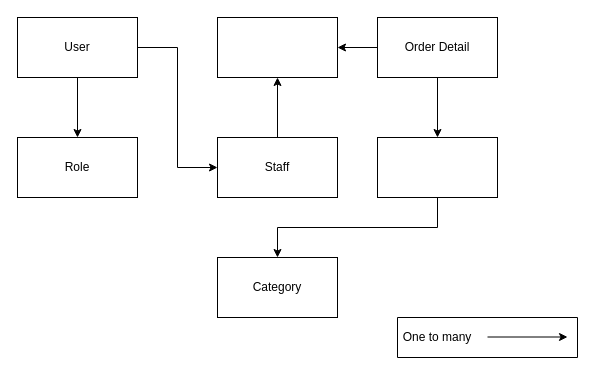
Some shapes in this 596 by 376 pixel diagram are drawn without their labels. Each missing label, with the box of its shape:
Order: (216, 16, 338, 78)
Product: (376, 136, 498, 198)
